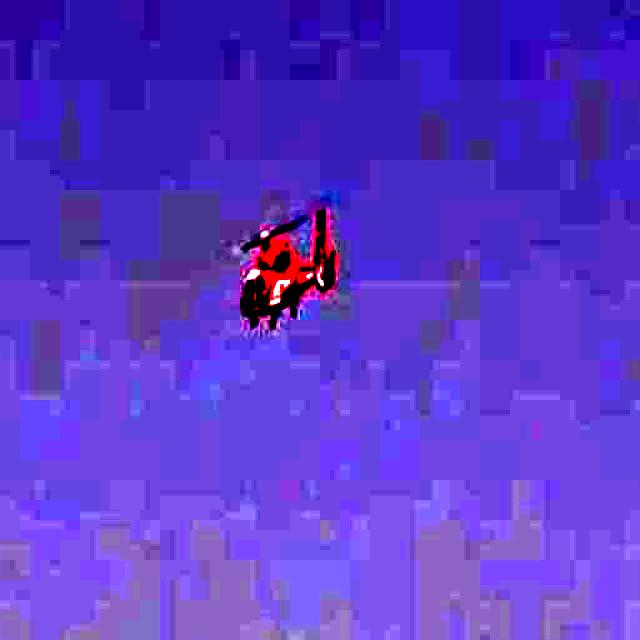drone: (176, 161, 404, 359)
